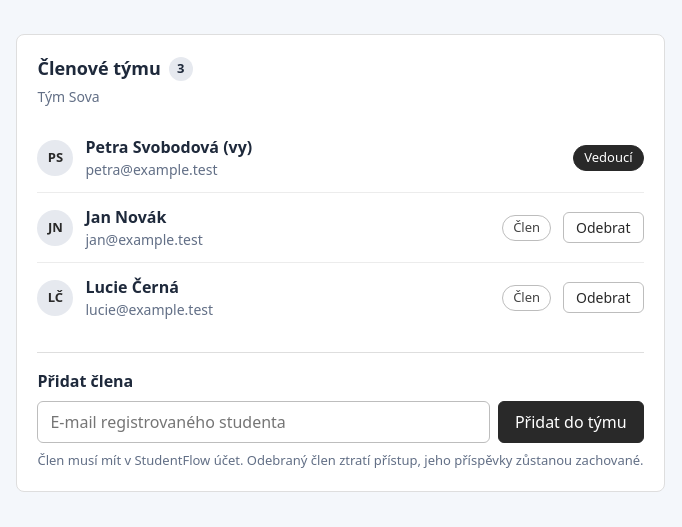
Scenario: ProjectMembers removal › shows 404 PROJECT_NOT_FOUND and reloads, because the team changed meanwhile
Step 1. Click the button "Odebrat" in the row of "JN" → (603, 228), box left=563, top=212, right=644, bottom=243
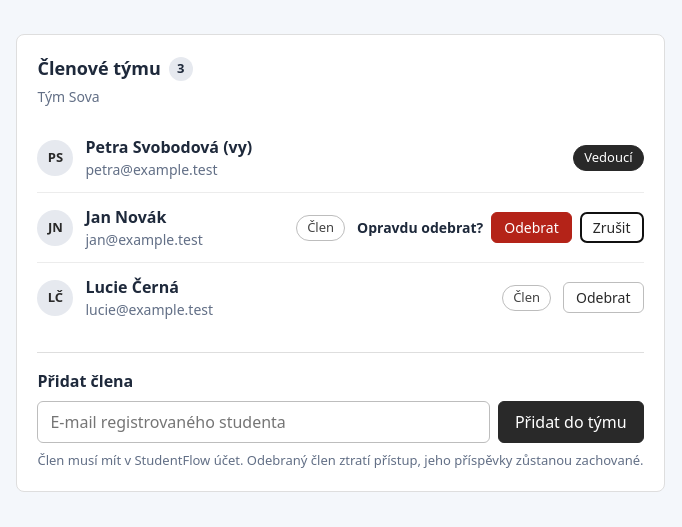
Step 2. Click the button "Odebrat" next to "Opravdu odebrat?" → (531, 228), box left=491, top=212, right=572, bottom=243
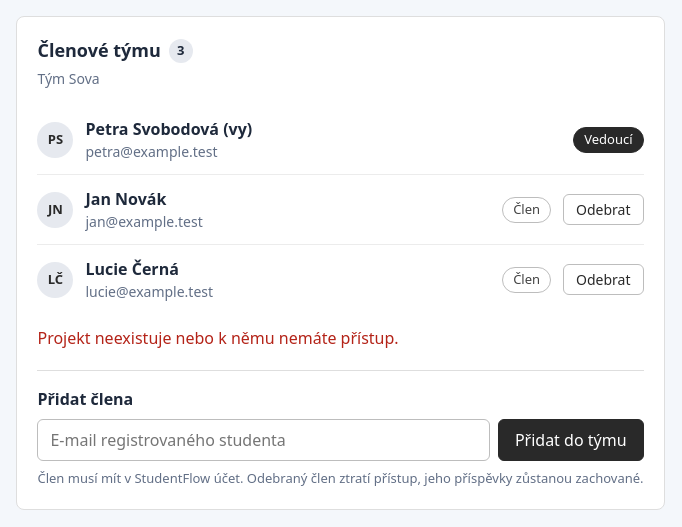
Check: the message reads "Projekt neexistuje nebo k němu nemáte přístup.", box left=38, top=327, right=399, bottom=349
